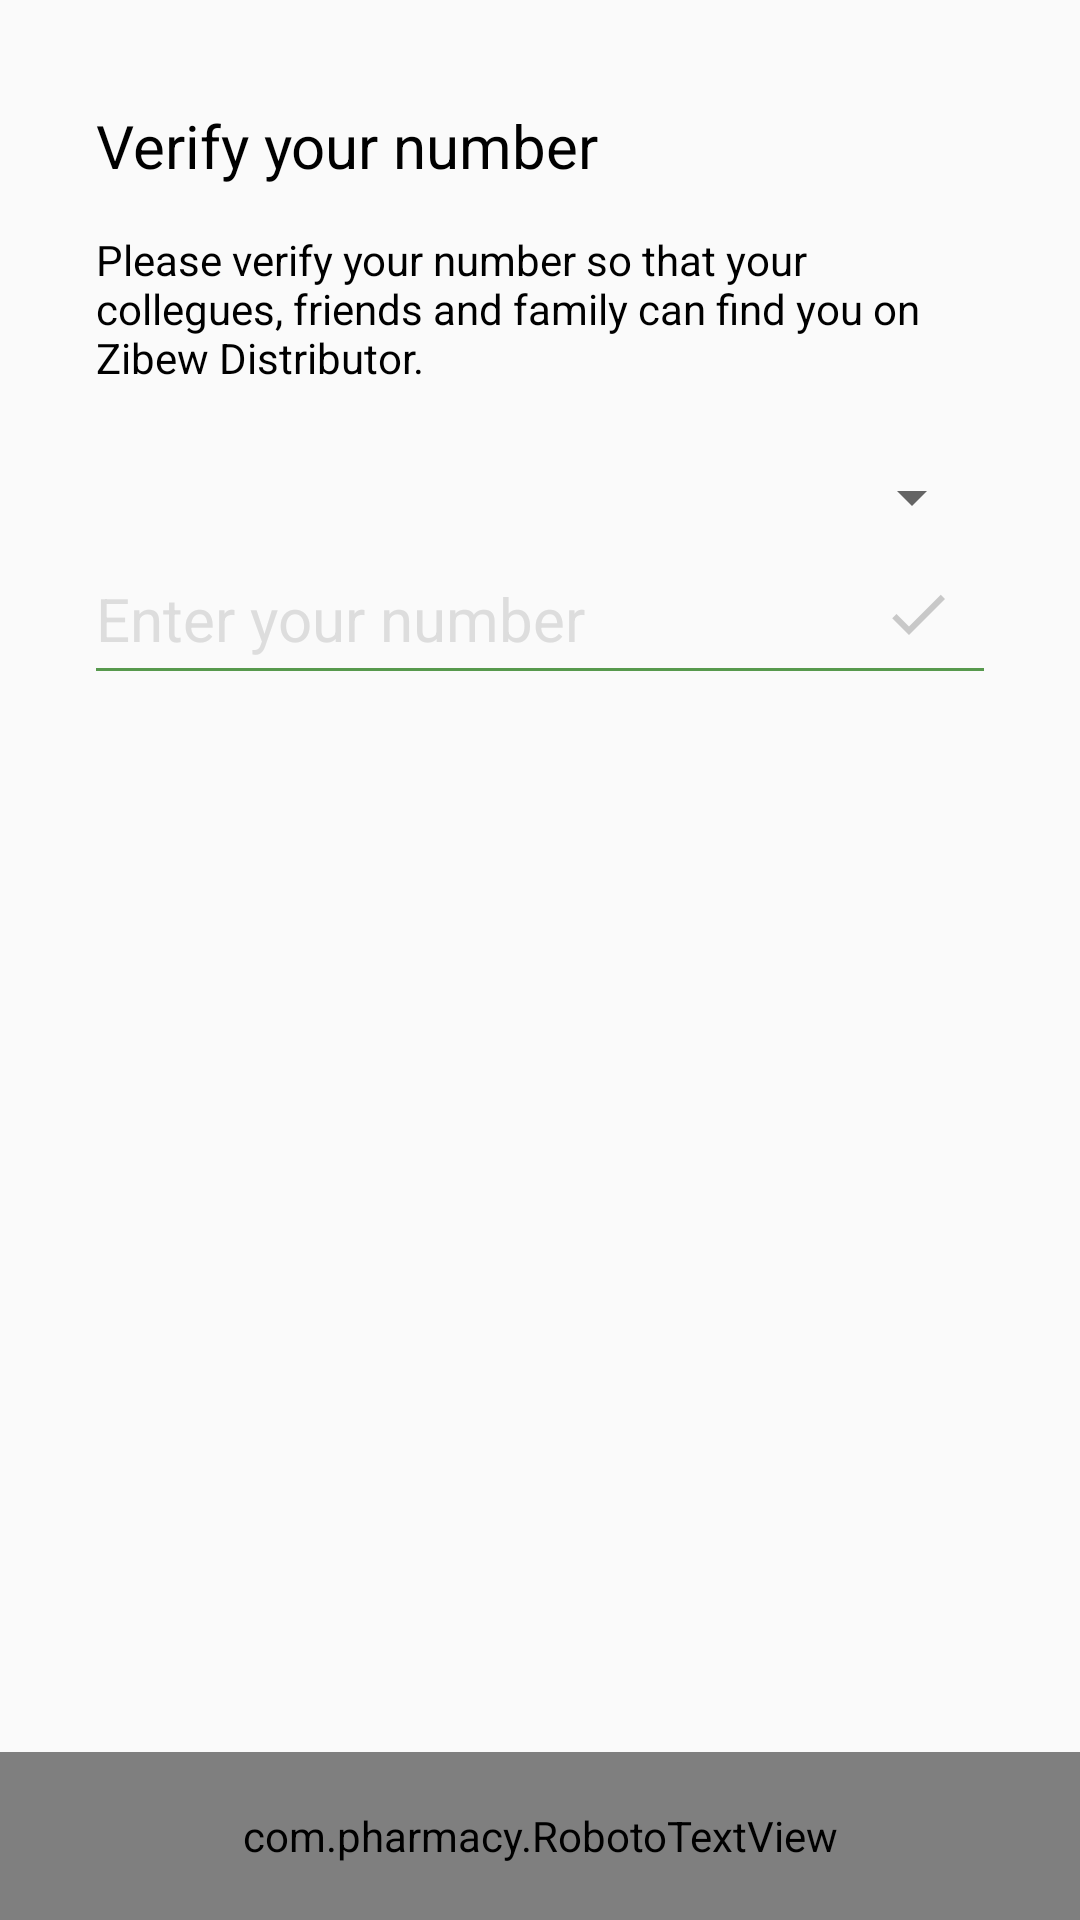

Screen size 1080*1920. Icon name, then its center in pixels as (x=x, y=y):
check right: (x=919, y=615)
